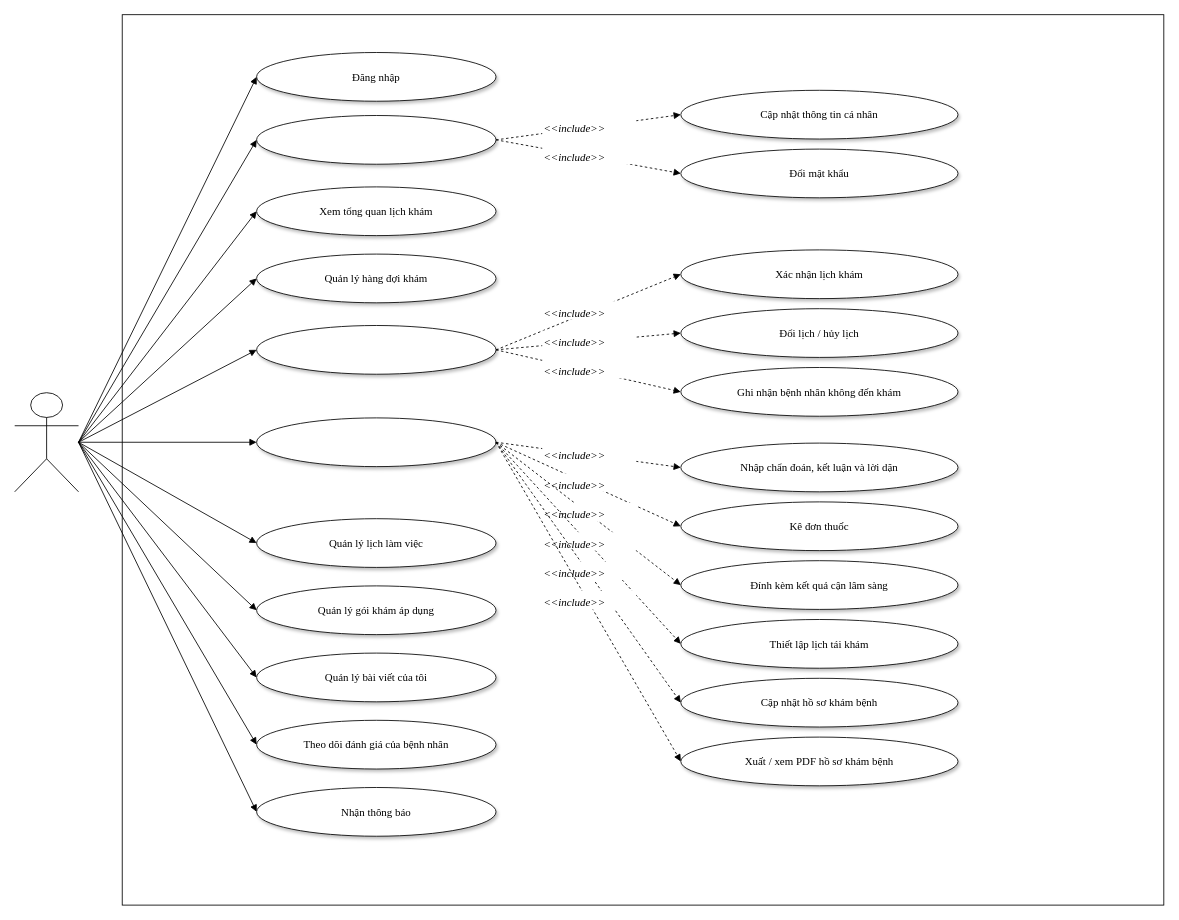
Image size: 1179x920. Some labels were removed from this diagram. Each missing label, with the centre of its shape:
"Bác sĩ" belongs at point 46,442.
"Quản lý hồ sơ khám bệnh" belongs at point 376,443.
"Quản lý tài khoản cá nhân" belongs at point 376,140.
"Xử lý lịch hẹn" belongs at point 376,350.
